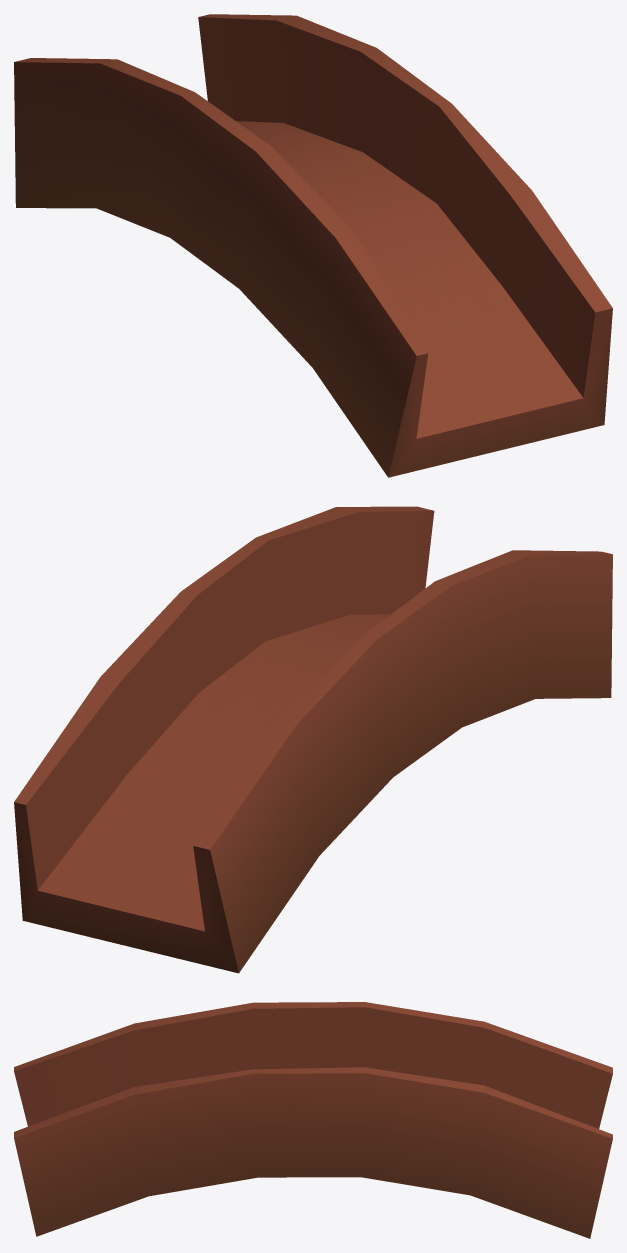
File: CustomColl_BridgeWood.fbx
3 views of the same model, one above another, from view 1: azimuth 30°, elevation 25°; view 2: azimuth 150°, elevation 25°; view 3: azimuth 270°, elevation 25° (orthographic). The views are drawn at different scales.
Parts seen in each view (by area): view 1: BridgeWood_CollMesh; view 2: BridgeWood_CollMesh; view 3: BridgeWood_CollMesh.
Part boxes in pixels (box(x1,y1,x2,y2)): BridgeWood_CollMesh: box(14, 14, 612, 477); BridgeWood_CollMesh: box(14, 506, 612, 973); BridgeWood_CollMesh: box(14, 1002, 612, 1238).
Size of the model in its own units: 2.19 by 2.13 by 7.08.
